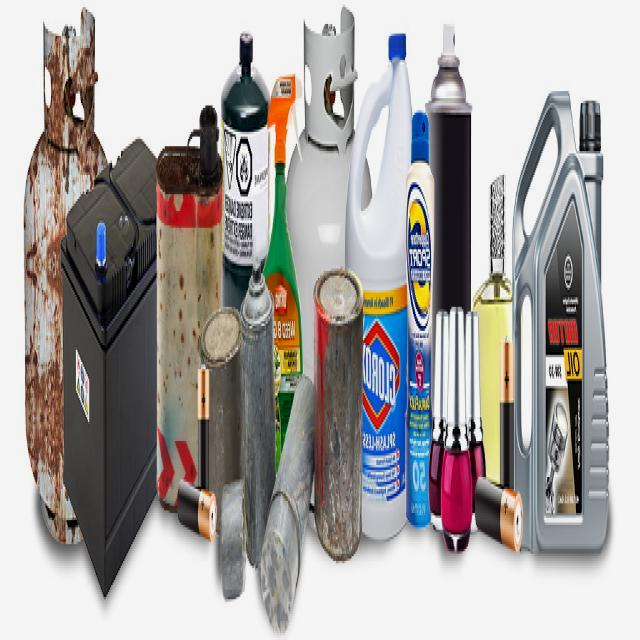B3: (512, 99, 628, 554), (395, 22, 477, 550), (147, 120, 237, 319)
